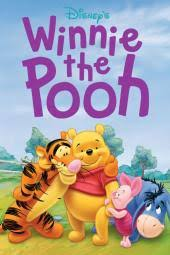Winnie: (68, 126, 116, 191)
